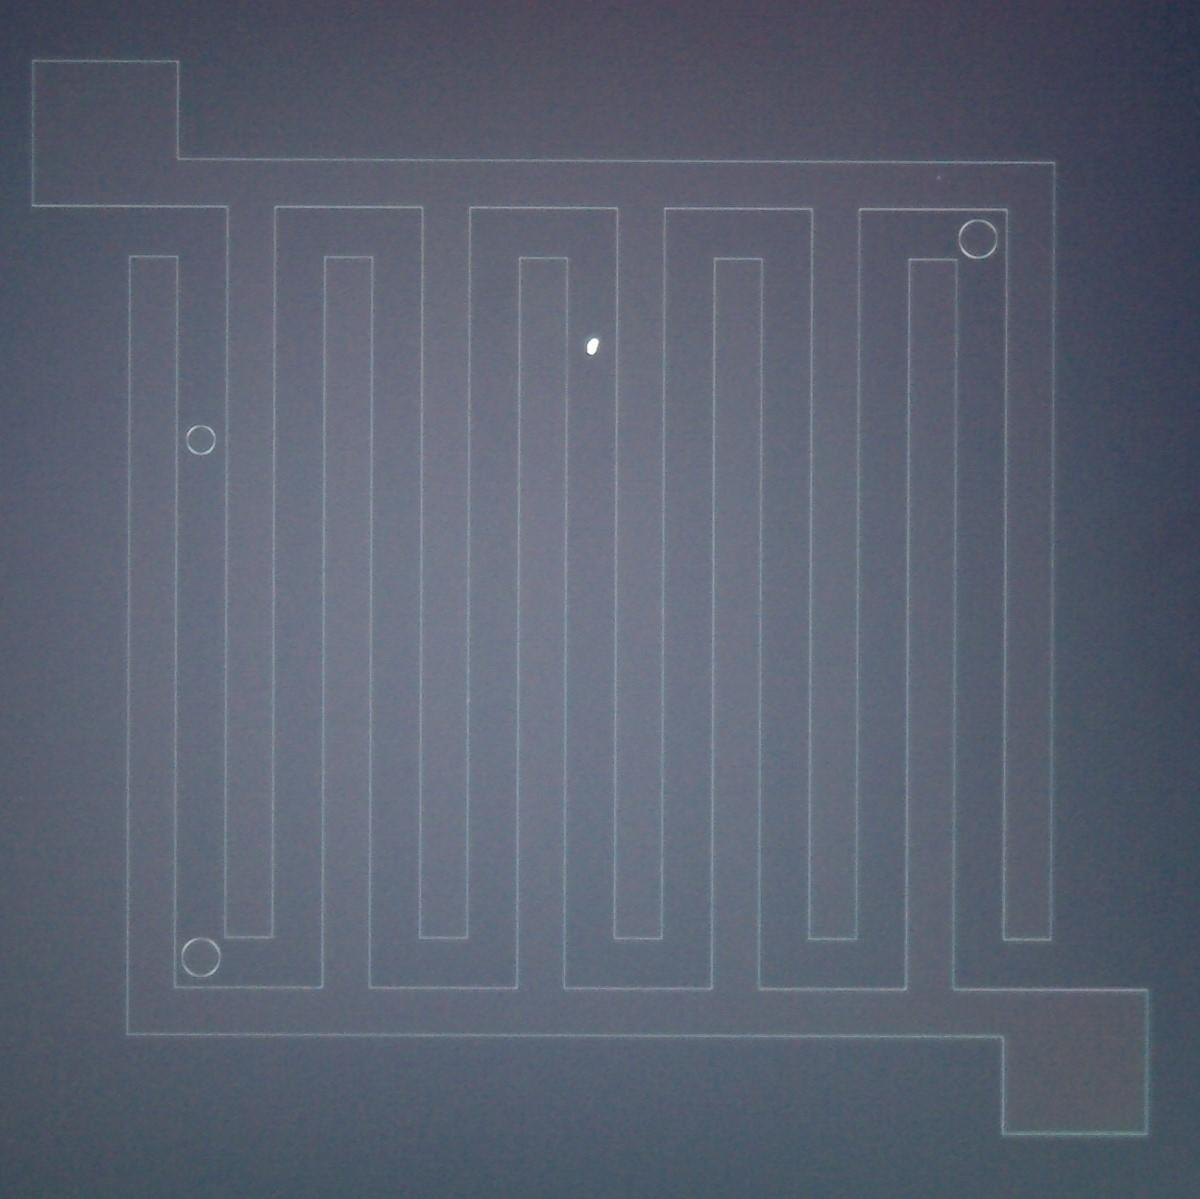B_point: (575, 326, 610, 366)
circle: (180, 933, 223, 982), (957, 217, 1000, 259), (184, 422, 218, 460)
s_point: (927, 166, 951, 190)
